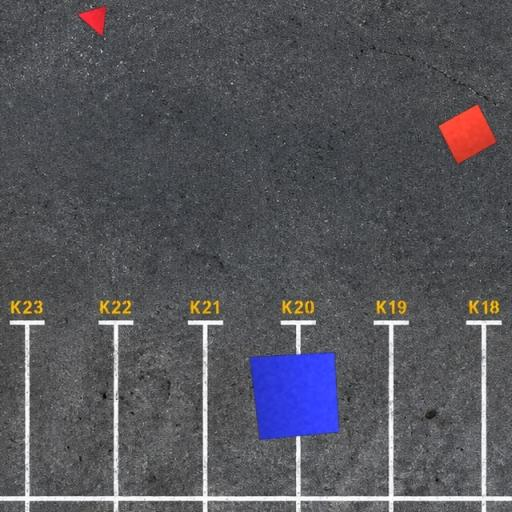BLUE_SQUARE: (249, 351, 340, 441)
RED_SQUARE: (437, 103, 498, 166)
